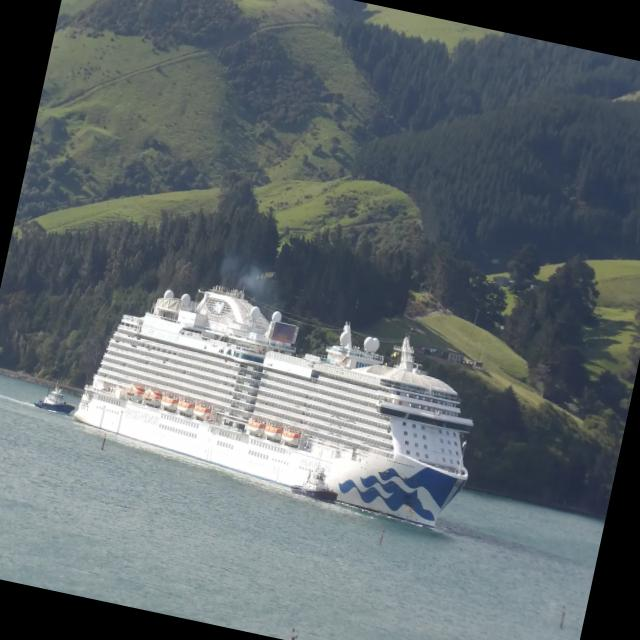Cruise: (74, 285, 473, 527)
Tug: (291, 469, 337, 501), (34, 386, 74, 414)
